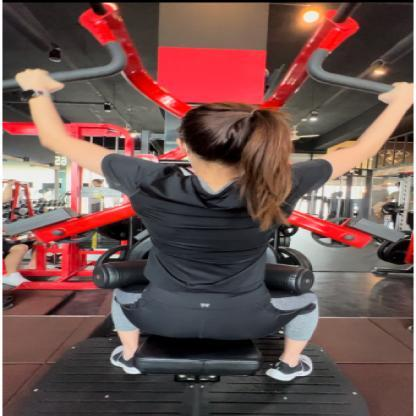Lat Pull Down: (0, 0, 416, 400)
